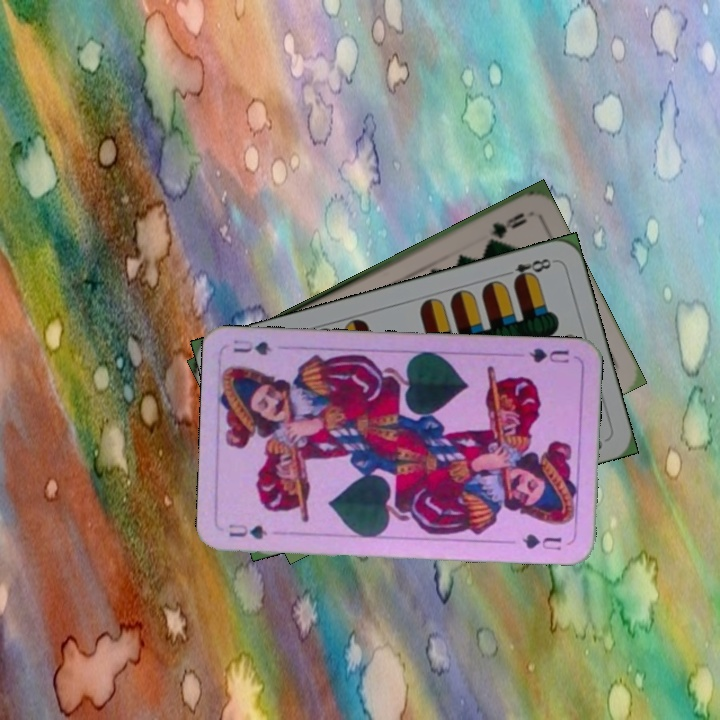E8: (499, 254, 554, 285)
G9: (483, 208, 530, 245)
GU: (525, 344, 572, 366), (225, 520, 270, 542)
